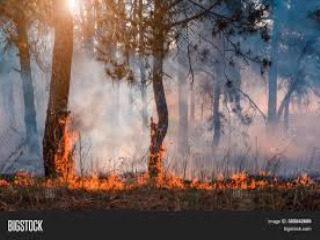fire: (98, 157, 315, 195), (49, 115, 99, 191), (143, 113, 178, 202)
smoke: (179, 76, 316, 155), (78, 62, 144, 147)
